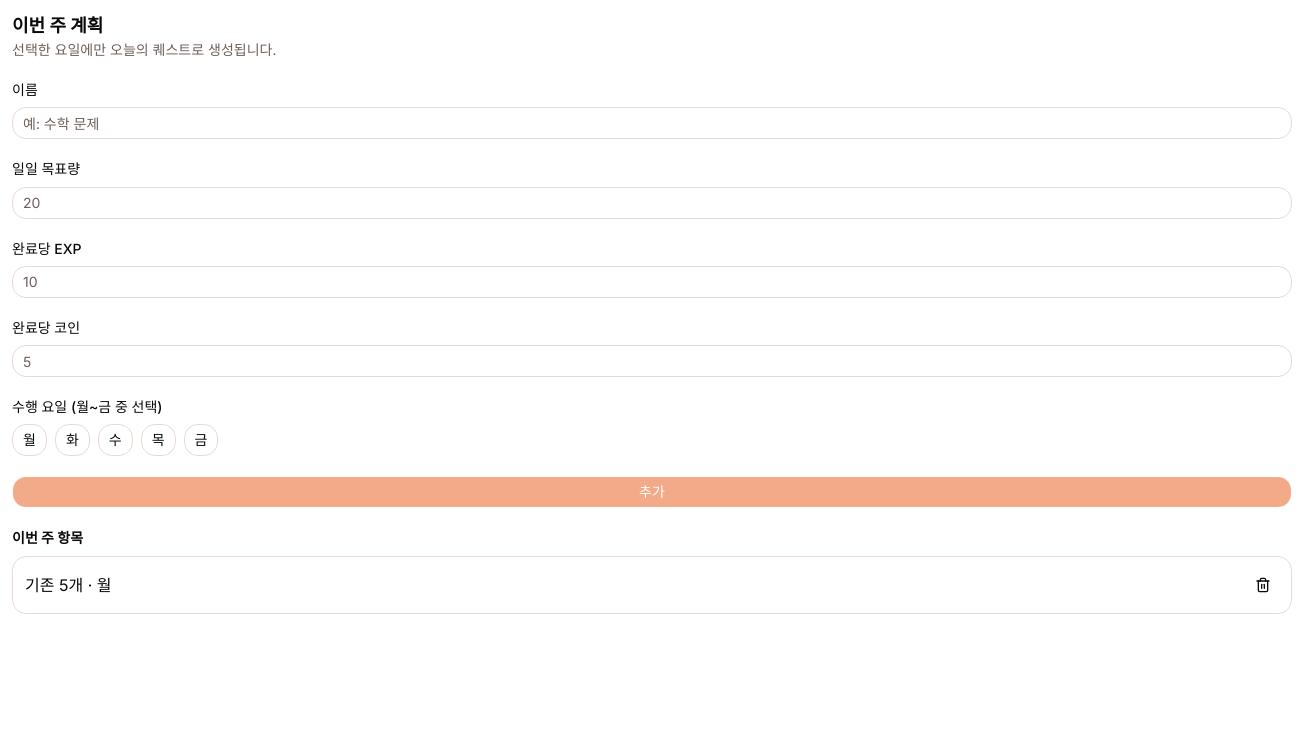
Test: PlanScreen — 이번 주 계획 › [S2-4] 이미 계획이 있어도 항목을 추가할 수 있다
The image size is (1304, 732).
expect the text "기존 5개 · 월" is shown: met, box [25,575,112,595]
Step 1. Type "새항목" into the field with placeholder "예: 수학 문제" → [652, 123], box [12,107,1292,139]
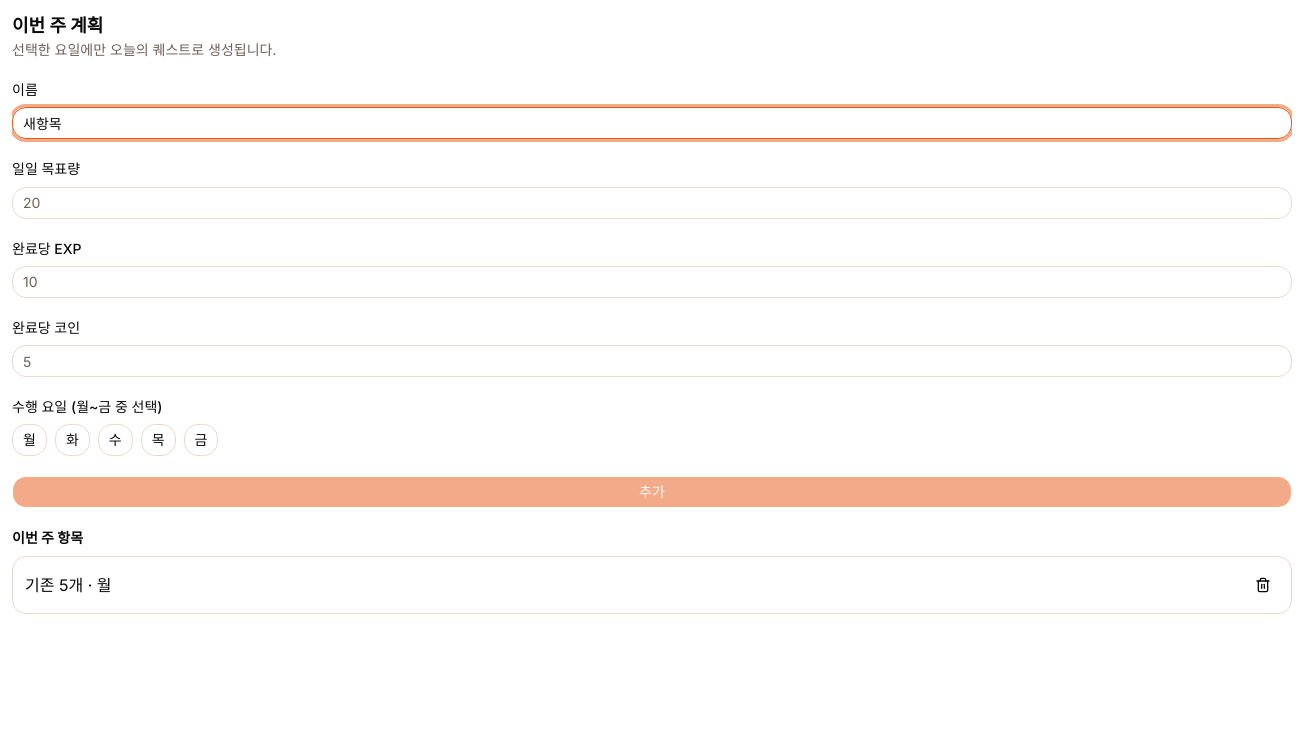
Step 2. Click the button "화" → [72, 440], box [55,424,90,456]
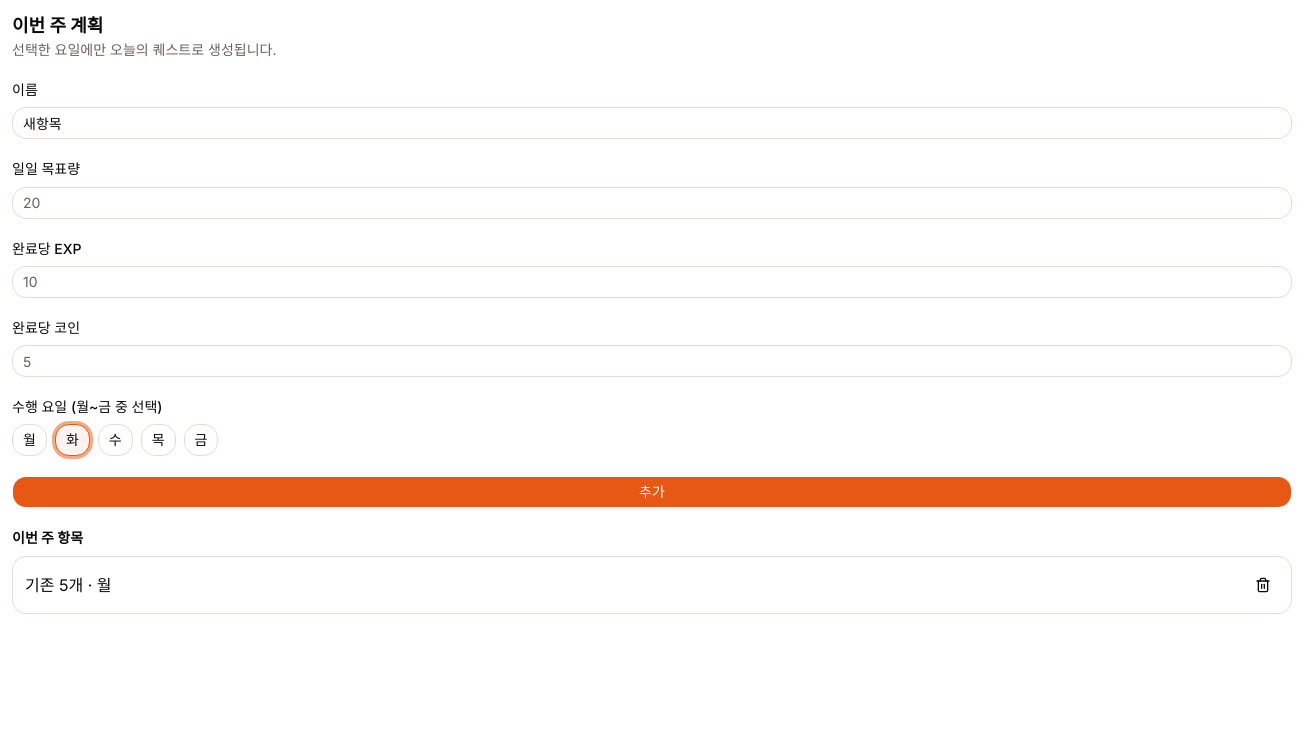
Step 3. Click the button "추가" → [652, 492], box [12,476,1292,508]
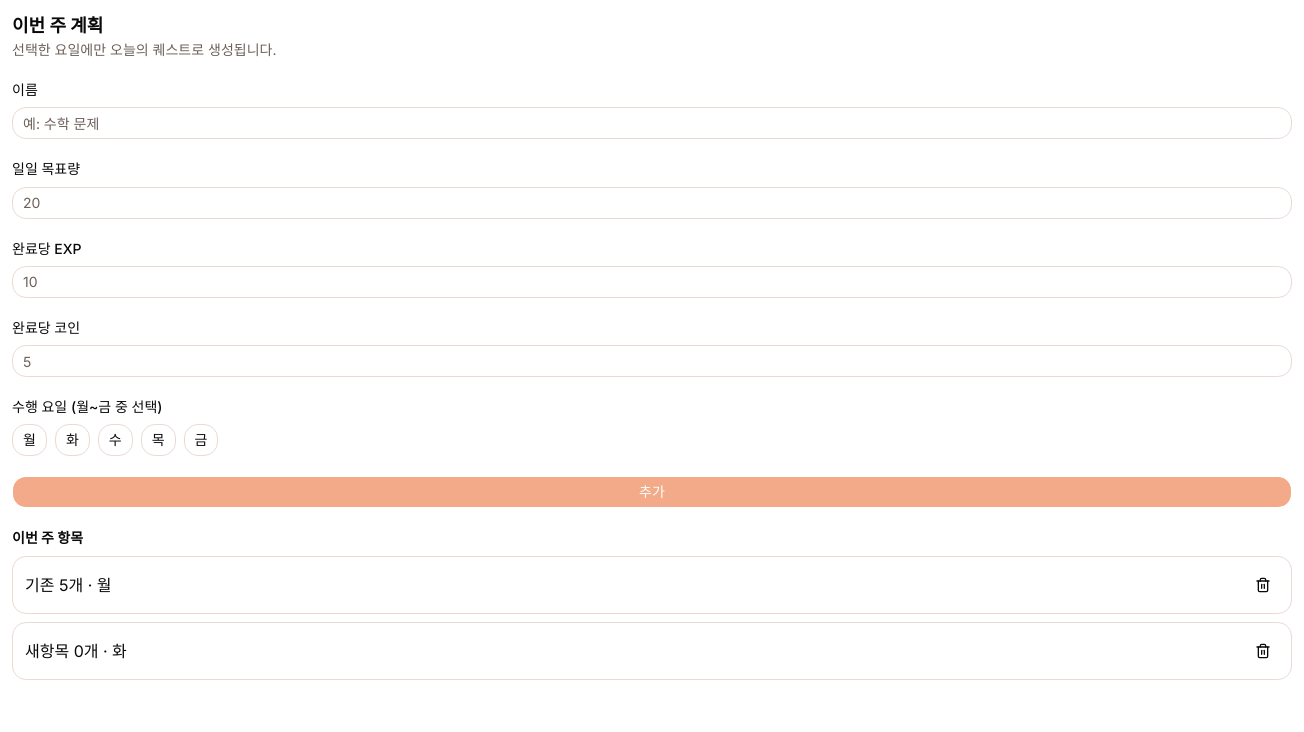
expect the text "기존 5개 · 월" is shown: met, box [25,575,112,595]
expect the text "새항목 0개 · 화" is shown: met, box [25,641,127,661]
